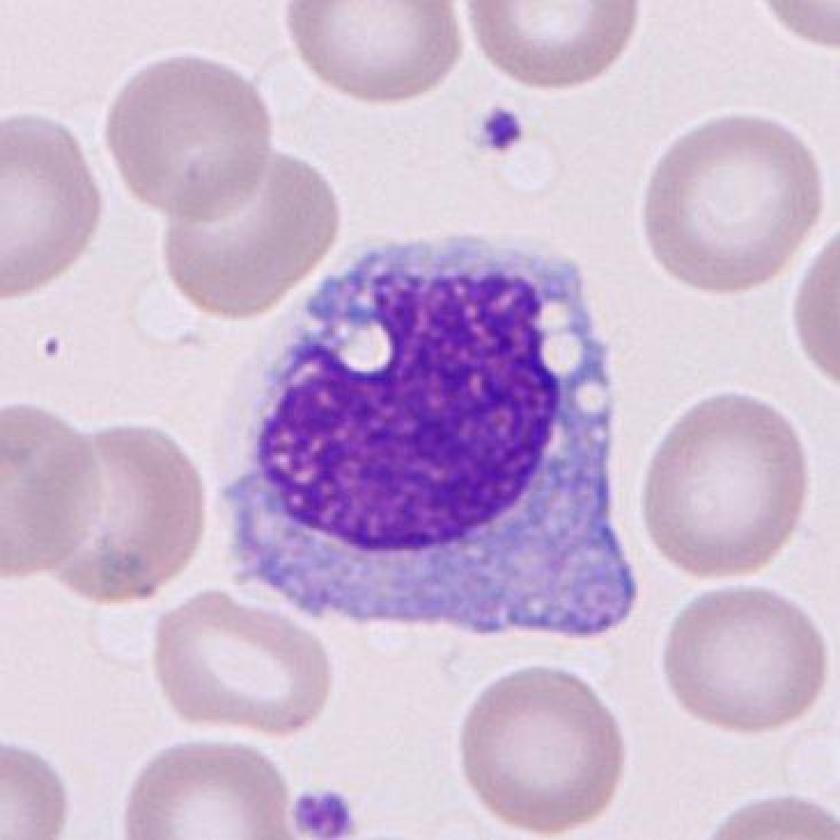monocyte: (196, 217, 657, 661)
